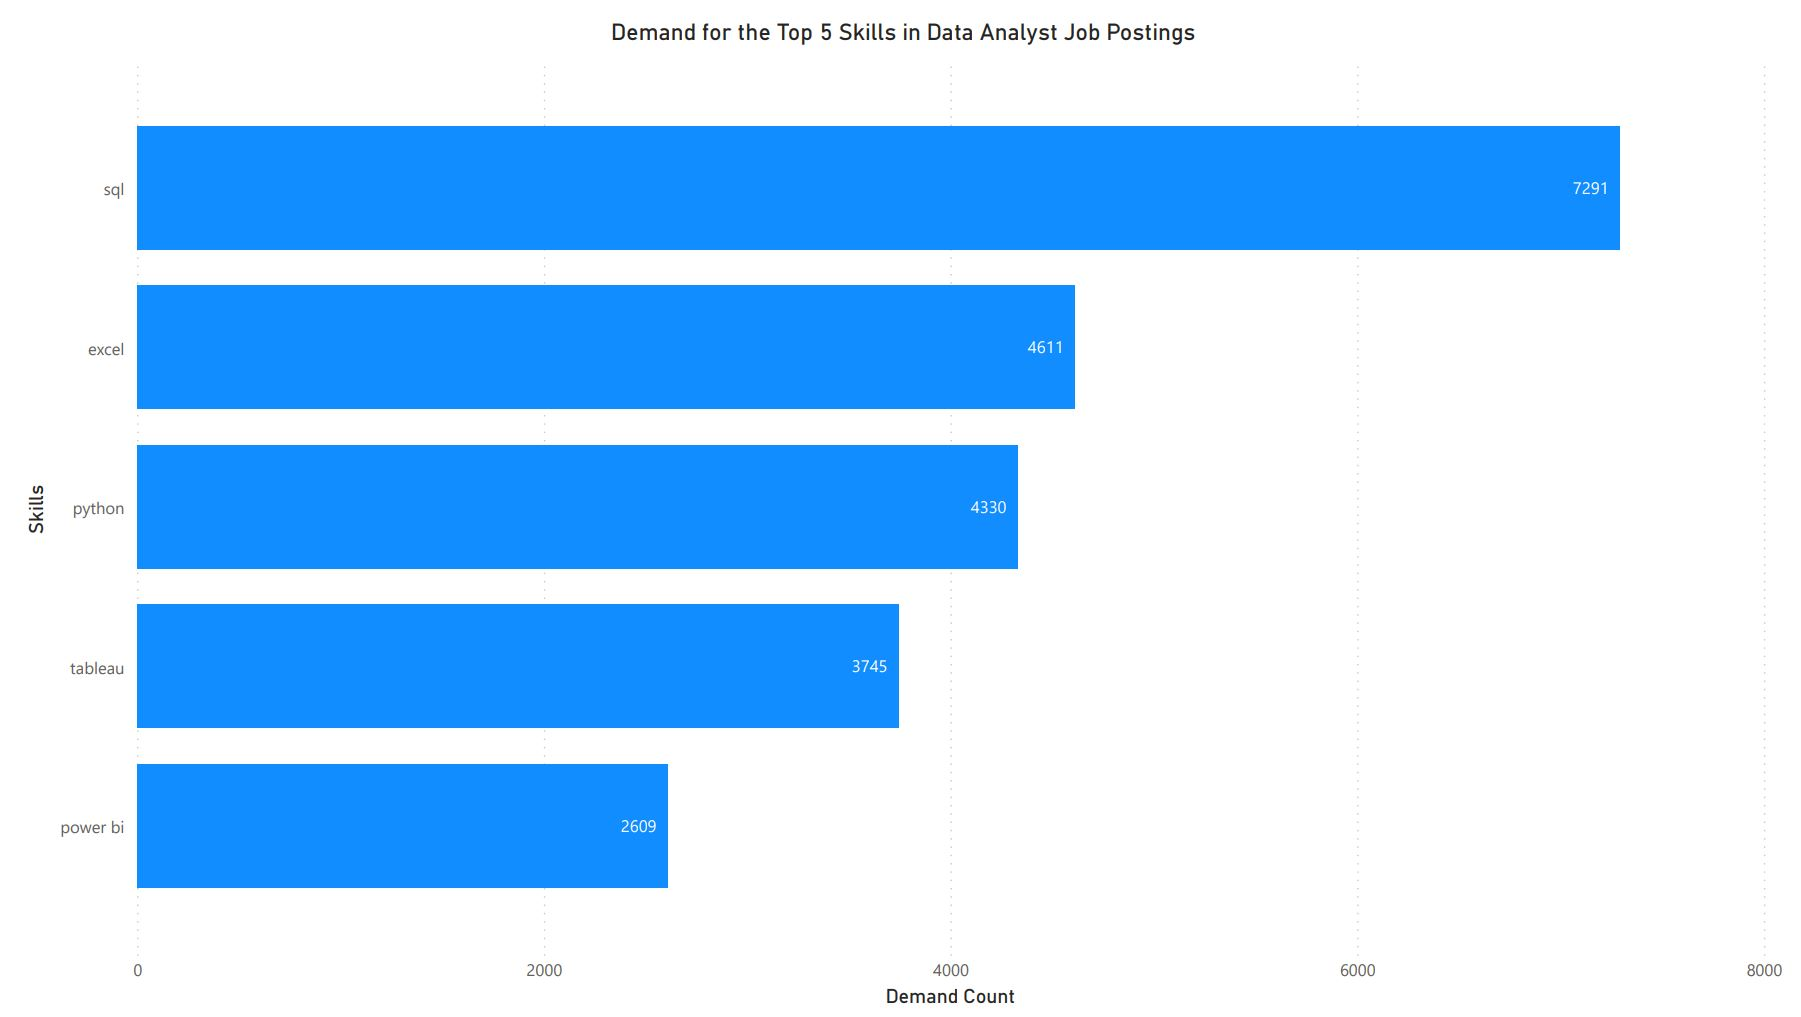

What the dashboard file says about the page in this screenshot:
{"tool":"powerbi","page":{"name":"Query 3","canvas":[1280,720],"ordinal":2},"visuals":[{"type":"barChart","title":"Demand for the Top 5 Skills in Data Analyst Job Postings","fields":{"Y":["Sum(Query 3 Outcome.demand_count)"],"Category":["Query 3 Outcome.skills"]},"box":[0,0,1280,720],"z":0}]}

Visuals, with their boxes in screenshot pixels (x1, y1, x2, y2), scaled from the page's 1280x720 canvas onto the 1801x1017 screenshot:
"Demand for the Top 5 Skills in Data Analyst Job Postings" barChart: box(0, 0, 1800, 1016)
